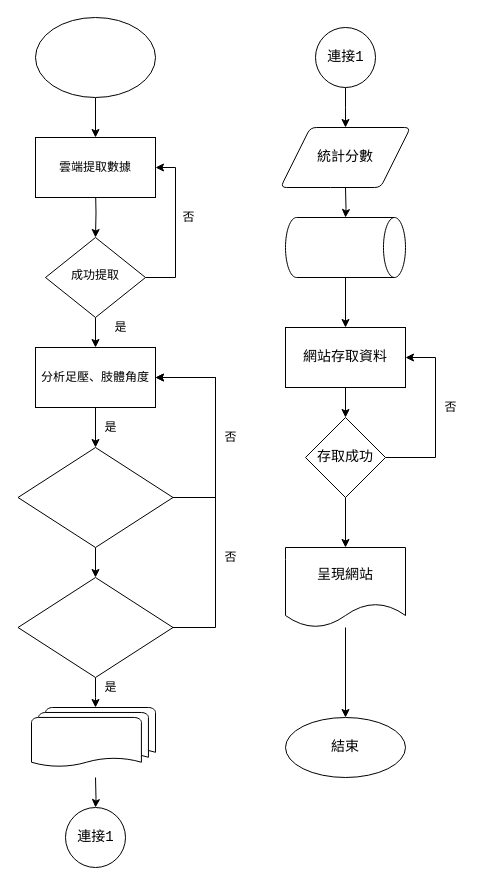
The diagram is 482 pixels wide and 885 high, and some of its shapes have lost their labels. Here are the shapes that lost their labels. From the top down, the box of each, then its label:
(34, 16, 156, 98): 開始
(284, 216, 406, 278): 存入分數、 足壓圖
(17, 446, 173, 548): 足壓正確
(17, 576, 173, 678): 肢體角度
(30, 706, 156, 768): 繪製足壓圖
